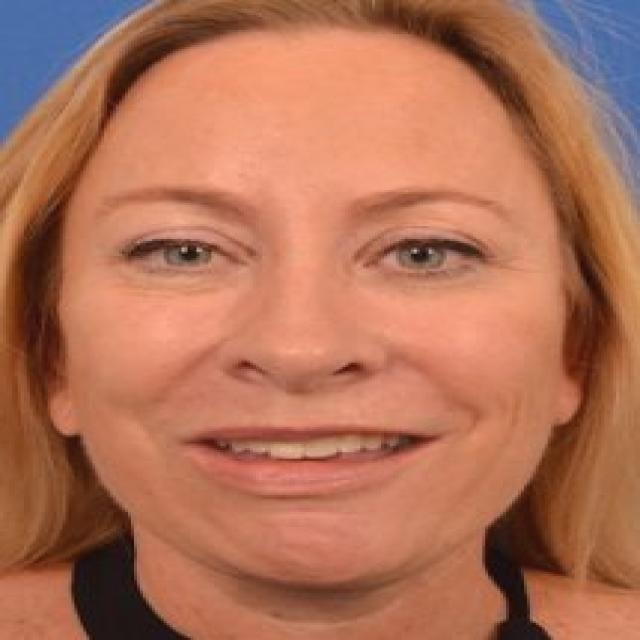normal_face: (93, 74, 534, 573)
